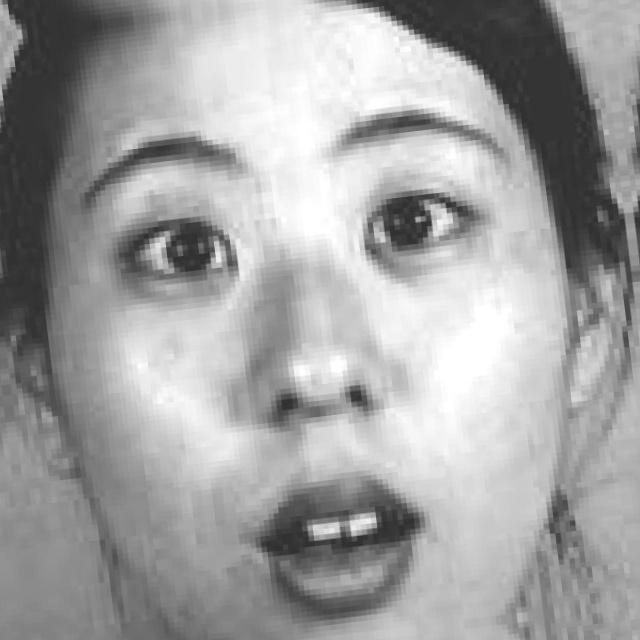surprise: (77, 38, 587, 637)
